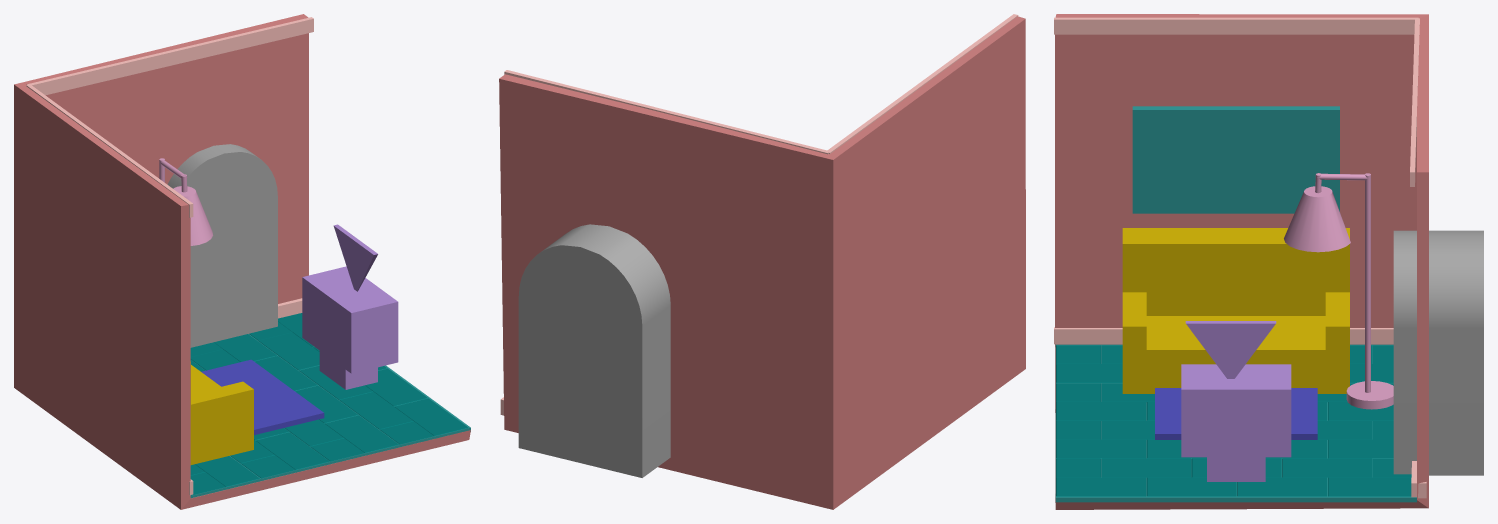
Rendered from lab02c.fbx.
The picture shows the model from 3 angles, left to right: view 1: azimuth 30°, elevation 25°; view 2: azimuth 150°, elevation 25°; view 3: azimuth 270°, elevation 25°; orthographic projection. The views are drawn at different scales.
Visible parts, largest first — view 1: polySurface2, LivingRoom, pCube2, tv_screen, tile01 (×7), couch, tile02 (×4), pCube5, rug, tile04 (×3), tile03 (×2), grout (+4 smaller); view 2: polySurface2, LivingRoom, pCube2, pCube5, pCube3; view 3: LivingRoom, couch, pictureframe, pCube2, tv_screen, tile01 (×8), tile04 (×6), pCube3, tile02 (×5), grout, polySurface2, tile03 (×3) (+9 smaller).
Part boxes in pixels (x1,y1,x2,y2): polySurface2: [14, 34, 308, 509]; LivingRoom: [14, 14, 470, 509]; pCube2: [167, 144, 277, 347]; tv_screen: [302, 266, 398, 373]; tile01 (×7): [195, 398, 468, 486]; couch: [190, 361, 253, 464]; tile02 (×4): [285, 368, 427, 446]; pCube5: [26, 17, 313, 95]; rug: [201, 359, 324, 435]; tile04 (×3): [190, 332, 319, 370]; tile03 (×2): [254, 356, 373, 399]; grout: [190, 334, 470, 498]; polySurface2: [499, 16, 1025, 509]; LivingRoom: [499, 21, 1025, 509]; pCube2: [518, 224, 670, 477]; pCube5: [504, 70, 828, 154]; pCube3: [825, 14, 1018, 153]; LivingRoom: [1055, 14, 1428, 507]; couch: [1122, 228, 1349, 393]; pictureframe: [1132, 106, 1339, 213]; pCube2: [1393, 230, 1483, 475]; tv_screen: [1181, 364, 1291, 457]; tile01 (×8): [1056, 345, 1145, 496]; tile04 (×6): [1282, 364, 1411, 496]; pCube3: [1054, 17, 1418, 34]; tile02 (×5): [1101, 383, 1236, 496]; grout: [1055, 344, 1416, 502]; polySurface2: [1055, 14, 1428, 509]; tile03 (×3): [1191, 439, 1327, 496].
Size of the model in its own units: 4.16 by 4.14 by 4.75.
